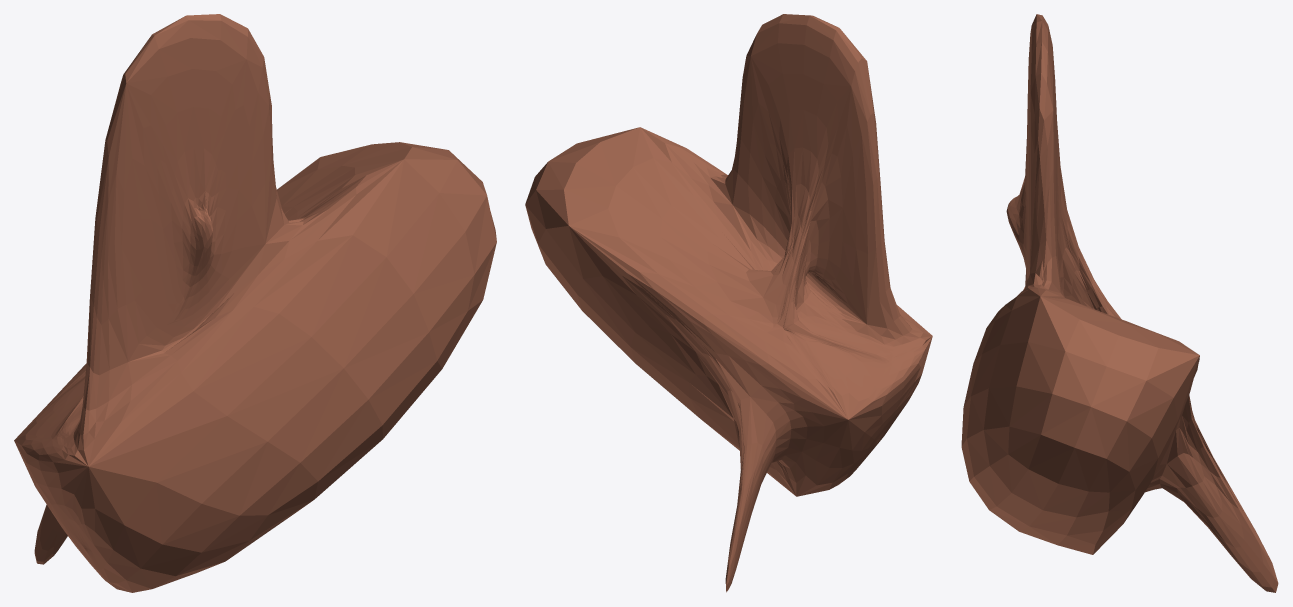
3 renders of one model, left to right at view 1: azimuth 30°, elevation 25°; view 2: azimuth 150°, elevation 25°; view 3: azimuth 270°, elevation 25°, orthographic. The views are drawn at different scales.
Visible parts, largest first — view 1: 386_Cube.1571; view 2: 386_Cube.1571; view 3: 386_Cube.1571.
Boxes of the visible parts, x1=… form: 386_Cube.1571: x1=14, y1=14, x2=496, y2=592; 386_Cube.1571: x1=525, y1=14, x2=932, y2=592; 386_Cube.1571: x1=961, y1=14, x2=1278, y2=592.
Size of the model in its own units: 11 by 14.45 by 7.14.
